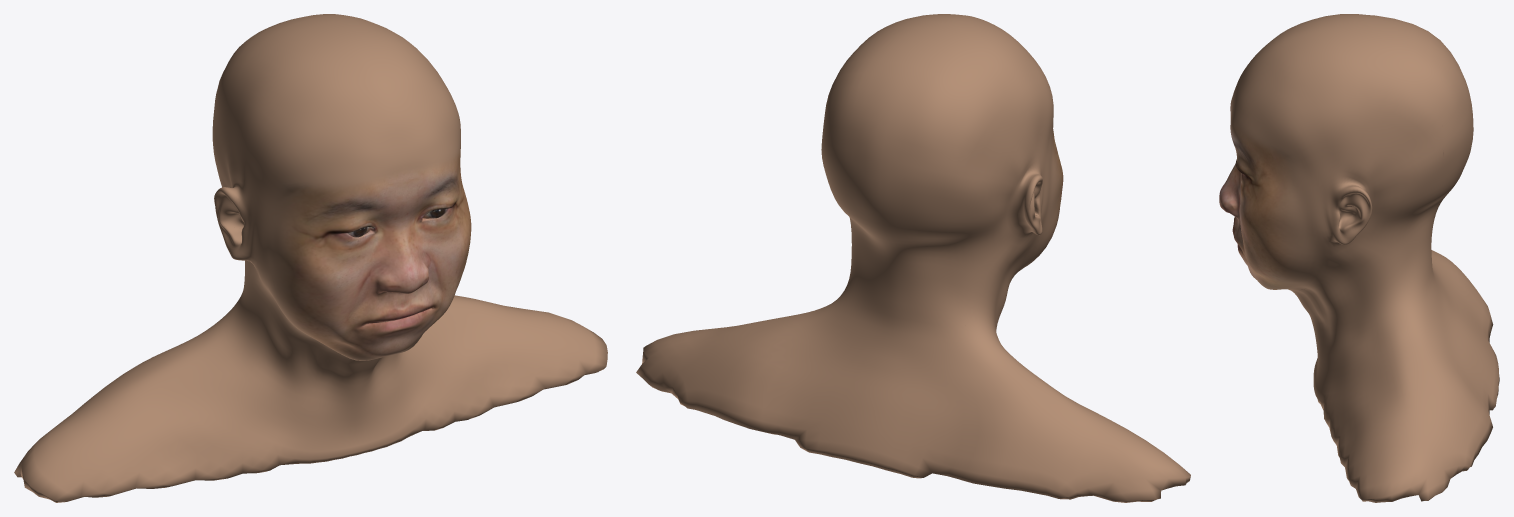
The model's file is director_wu.glb.
The picture shows the model from 3 angles, left to right: view 1: azimuth 30°, elevation 25°; view 2: azimuth 150°, elevation 25°; view 3: azimuth 270°, elevation 25°; orthographic projection. The views are drawn at different scales.
Parts seen in each view (by area): view 1: anatomy_head_and_neck; view 2: anatomy_head_and_neck; view 3: anatomy_head_and_neck.
Boxes of the visible parts, box(x1,y1,x2,y2) form: anatomy_head_and_neck: box(14, 14, 607, 502); anatomy_head_and_neck: box(636, 14, 1190, 502); anatomy_head_and_neck: box(1219, 14, 1499, 502).
Bounding box in the file's own units: 1 × 0.6788 × 0.4801.
Materials: 2 (2 with a texture image).
